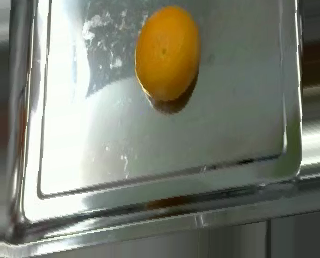Orange: (134, 3, 200, 101)
